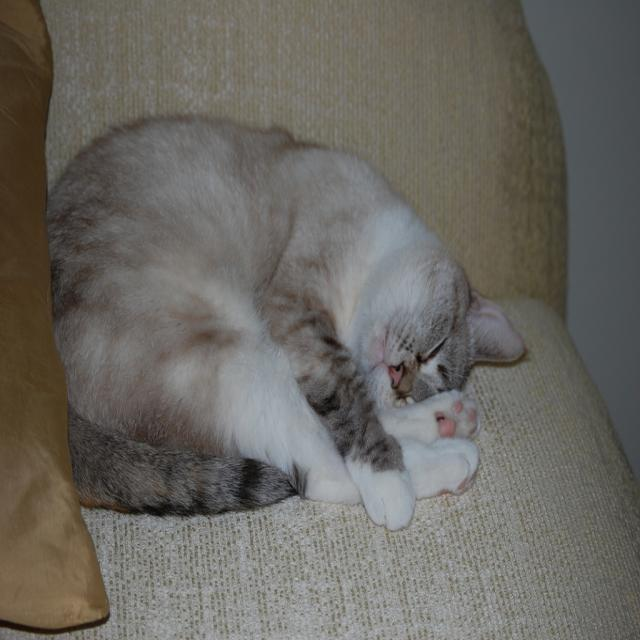Cat: (47, 107, 529, 535)
